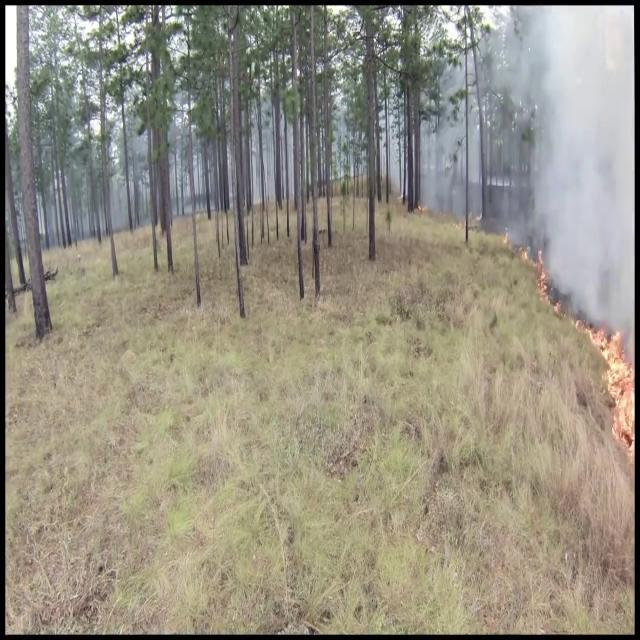Fire: (585, 312, 635, 460)
Smoke: (512, 4, 634, 327)
